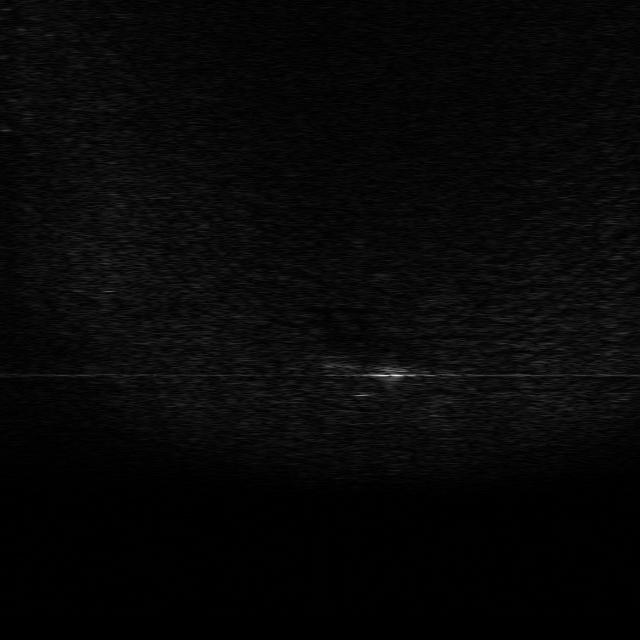plane: (318, 354, 432, 392)
